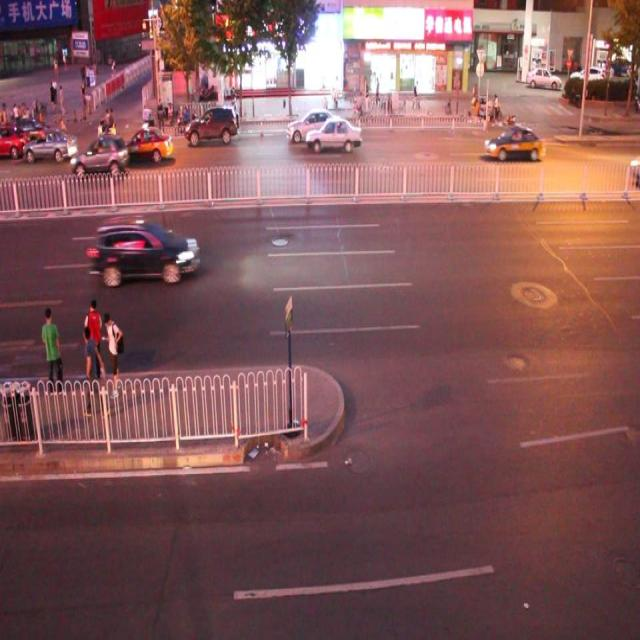car: (94, 214, 197, 281), (70, 134, 129, 177), (484, 124, 544, 162), (185, 104, 238, 144), (306, 115, 361, 153), (119, 127, 174, 162), (23, 130, 78, 162), (287, 110, 342, 142), (15, 112, 52, 144), (1, 120, 30, 157)
